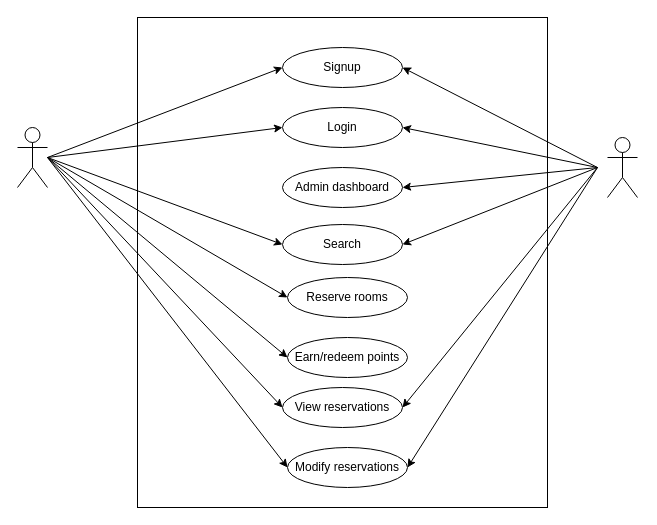
Image size: 657x525. Some labels were removed from this diagram. The shapes that lost their labels are listed below. From the top down, each one's centre as x and y in pixels, then its label:
At (x=32, y=157): "User".
At (x=622, y=167): "Admin".
